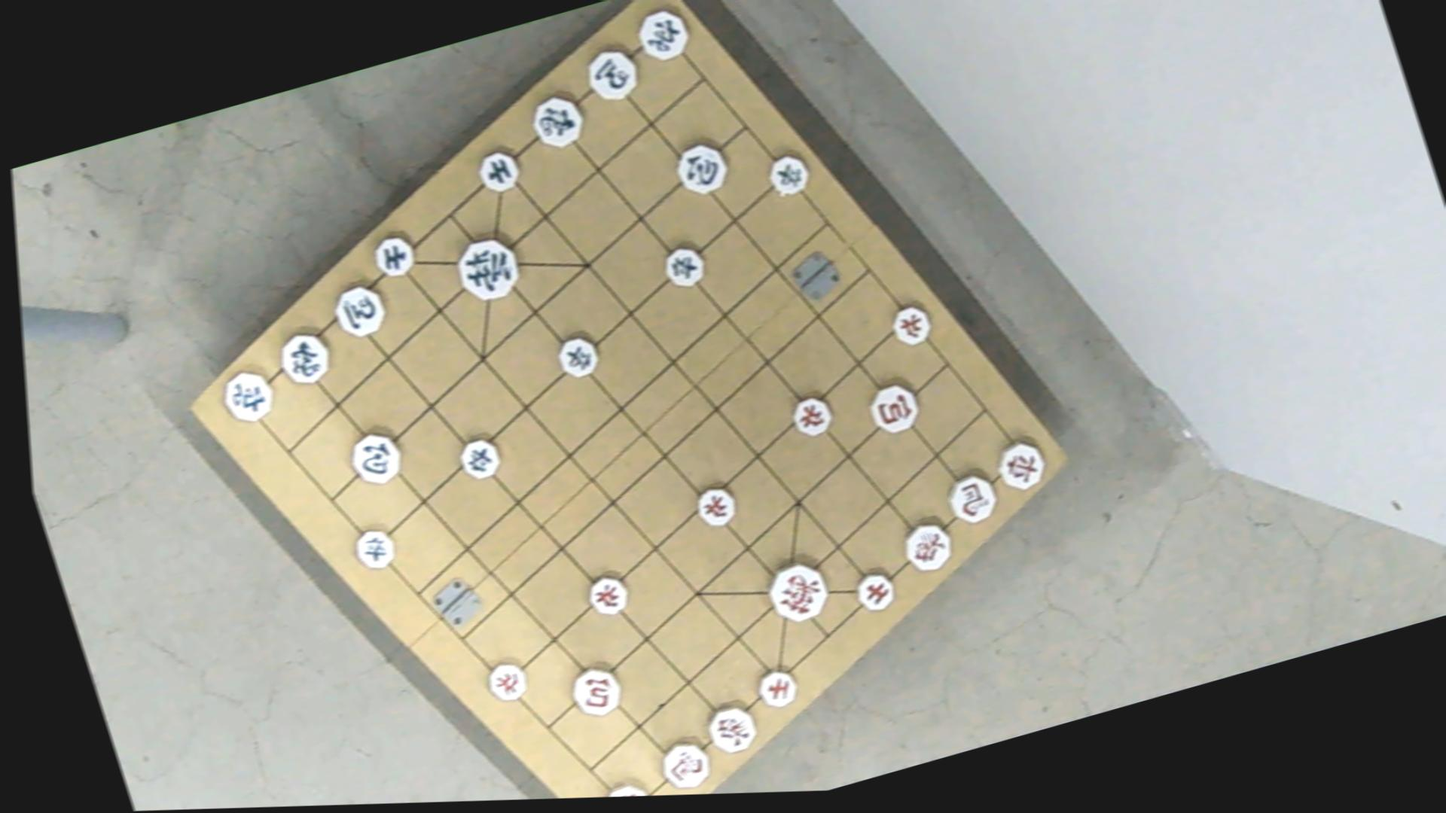cha_green: (632, 3, 696, 67), (216, 364, 279, 422)
cha_red: (990, 434, 1049, 492), (598, 777, 657, 797)
jol_green: (450, 434, 504, 482), (761, 151, 814, 199), (549, 332, 603, 379), (660, 241, 713, 288), (348, 524, 402, 570)
jol_red: (887, 302, 935, 352), (581, 571, 633, 617), (785, 392, 837, 437), (687, 482, 737, 528), (481, 658, 532, 702)
ma_green: (579, 43, 643, 102), (328, 282, 391, 340)
ma_red: (650, 735, 716, 795), (943, 470, 1002, 525)
po_green: (342, 428, 405, 487), (670, 139, 734, 196)
po_red: (862, 378, 925, 434), (563, 661, 624, 717)
sa_green: (369, 231, 422, 279), (472, 147, 524, 193)
sa_red: (751, 665, 804, 710), (849, 568, 900, 613)
sang_green: (523, 87, 590, 154), (275, 327, 337, 388)
sang_red: (895, 516, 959, 578), (700, 700, 761, 755)
wang_green: (449, 232, 526, 304)
wang_red: (762, 558, 837, 626)
